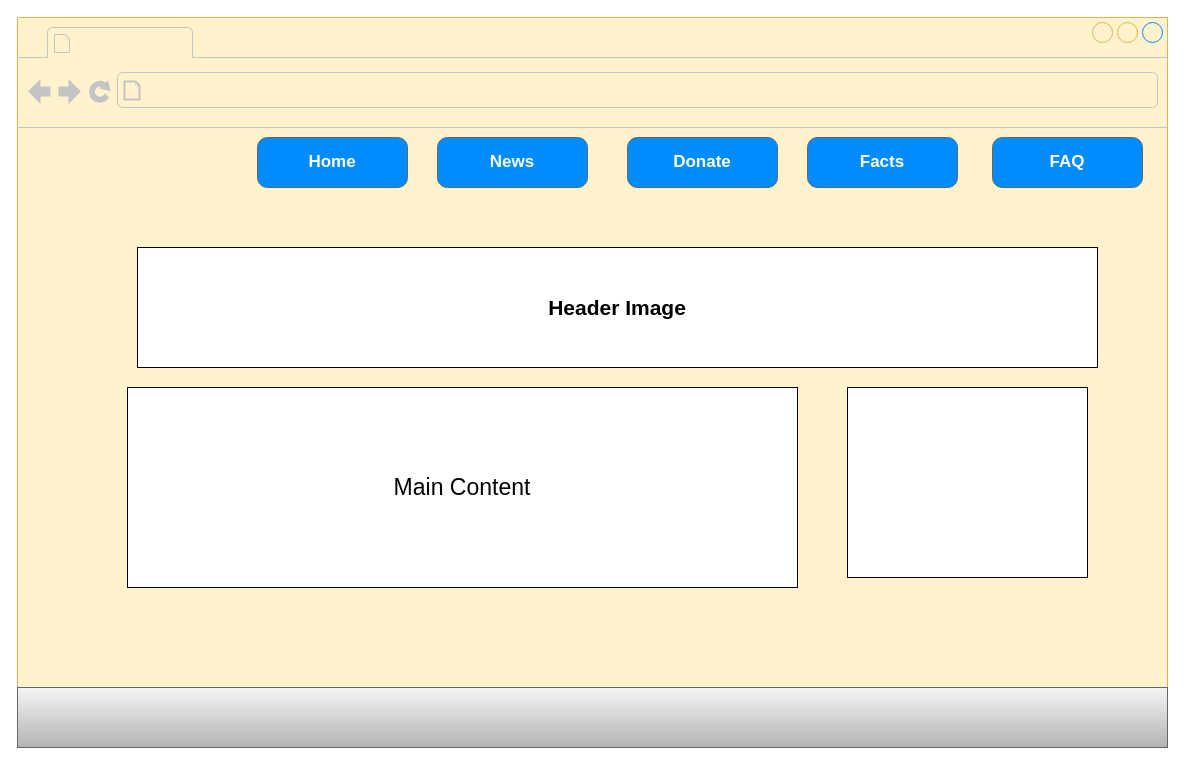
Image size: 1185x765. Some labels were removed from this diagram. The shapes that lost their labels are listed below. From the top down, each one's centre as x and y in pixels, then its label:
At (x=132, y=42): "PandaSaver".
At (x=272, y=90): "https://www.draw.io".
At (x=967, y=482): "Aside Content".
At (x=592, y=717): "Footer Content".
